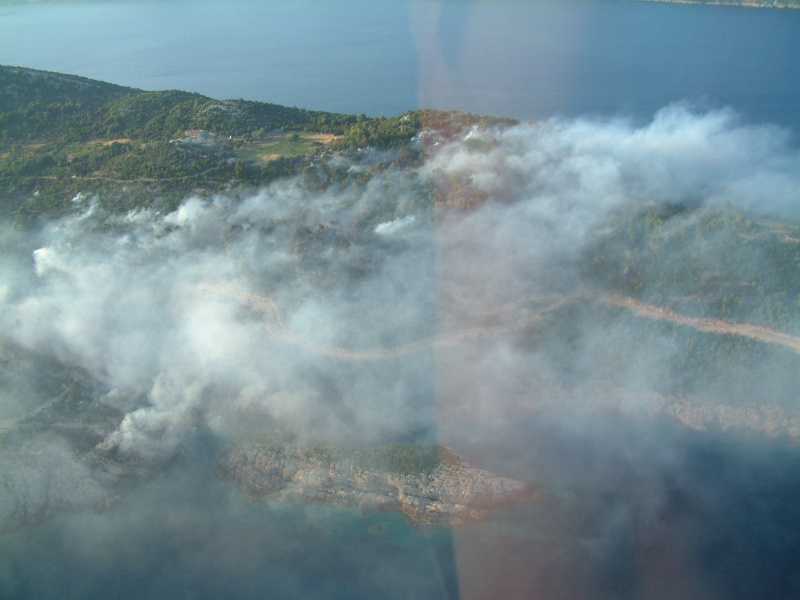smoke: (7, 213, 607, 492)
